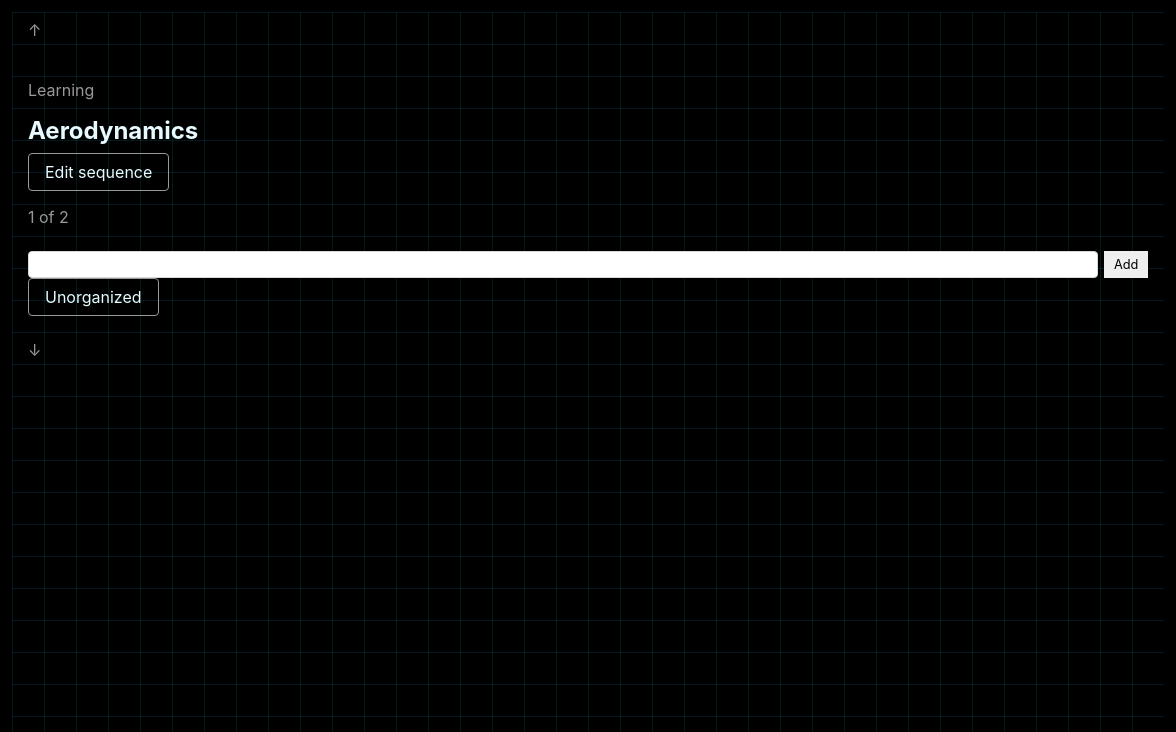
swiping is ignored while editing and works again after Done
Click the button "Edit sequence": (99, 172) [28,153,169,191]
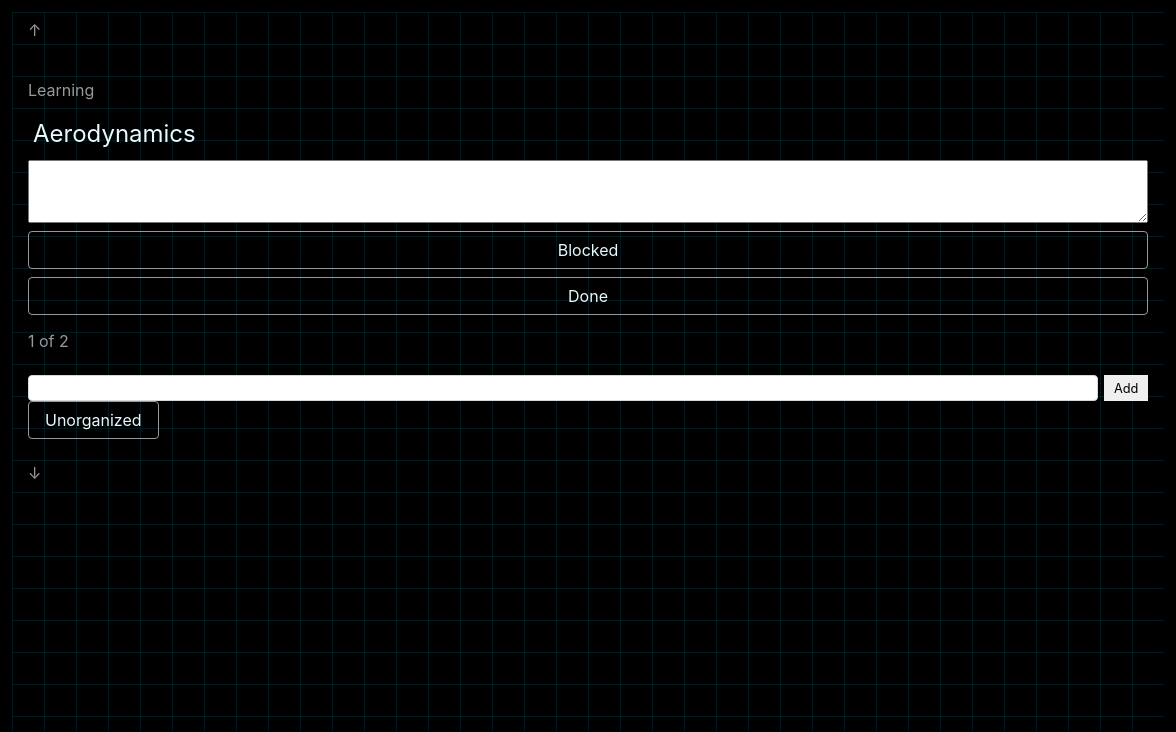
Press the mouse on the element showing "↑ Learning Blocked Done 1 of 2 Add Unorganized ↓": (588, 252) [12,12,1164,491]
Now the field named "Sequence title" holds "Aerodynamics", box [28,116,1148,152]
Click the button "Done": (588, 296) [28,277,1148,315]
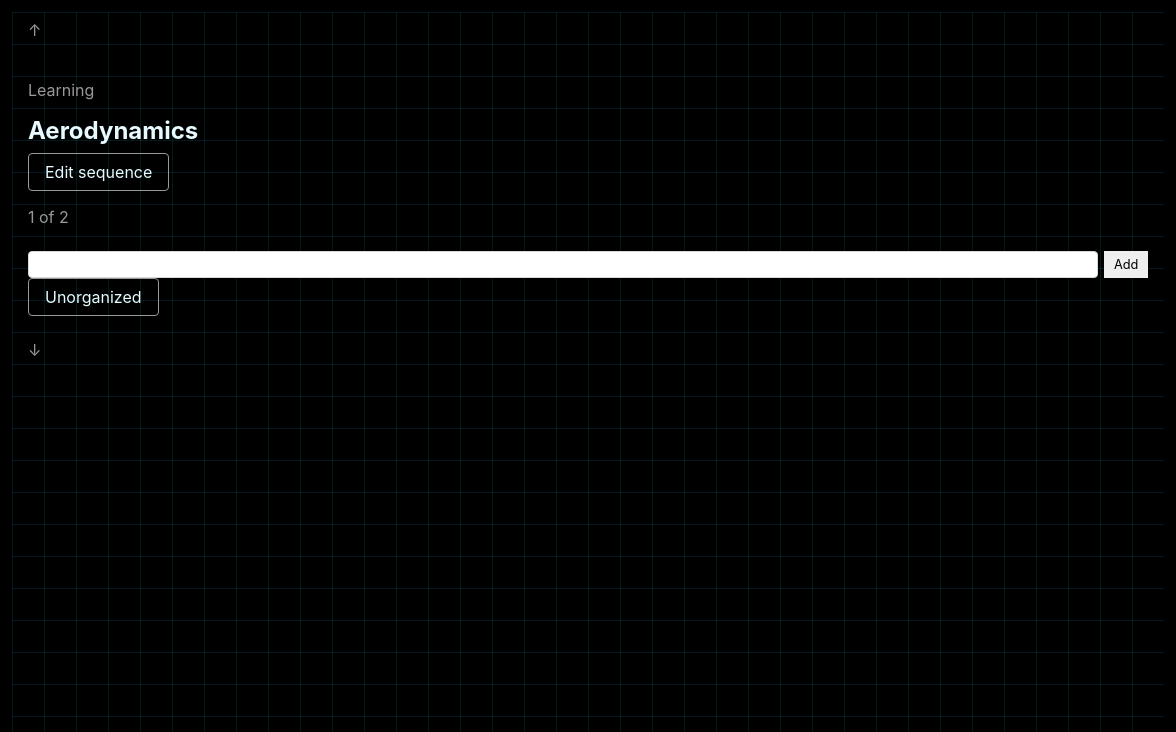
Press the mouse on the element that starts with "Learning": (588, 190) [12,12,1164,368]
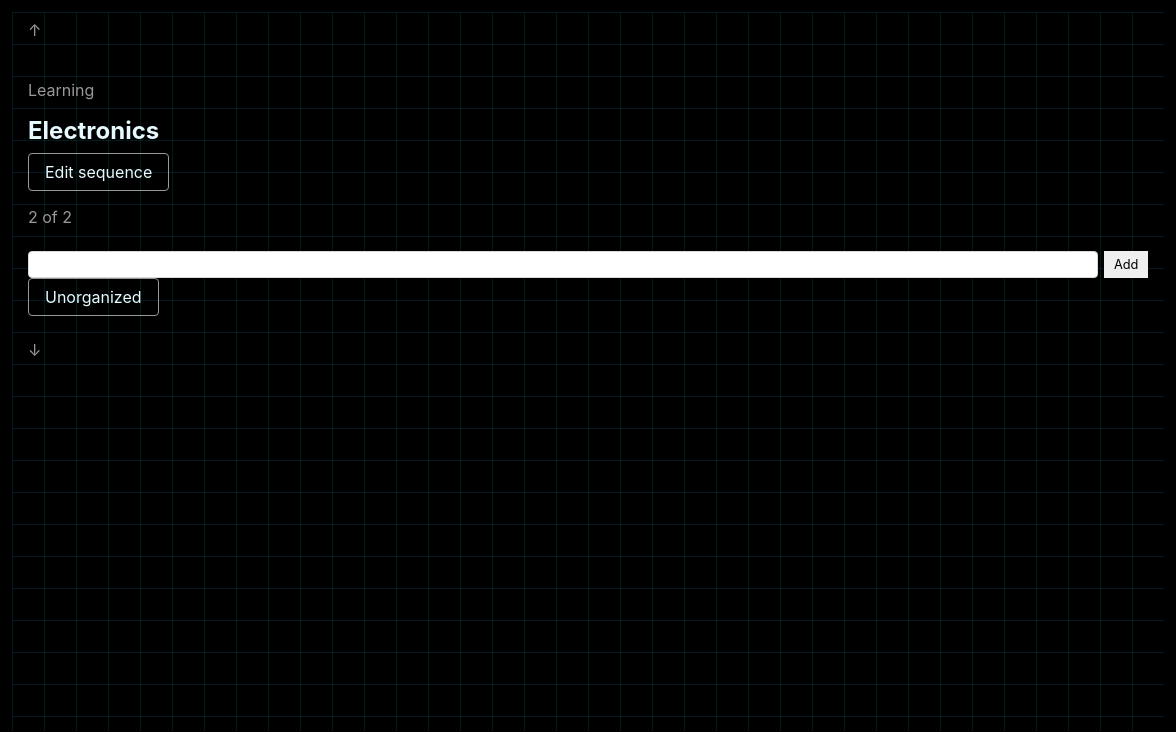
Now the heading "Electronics" is shown, box [28,116,159,145]
